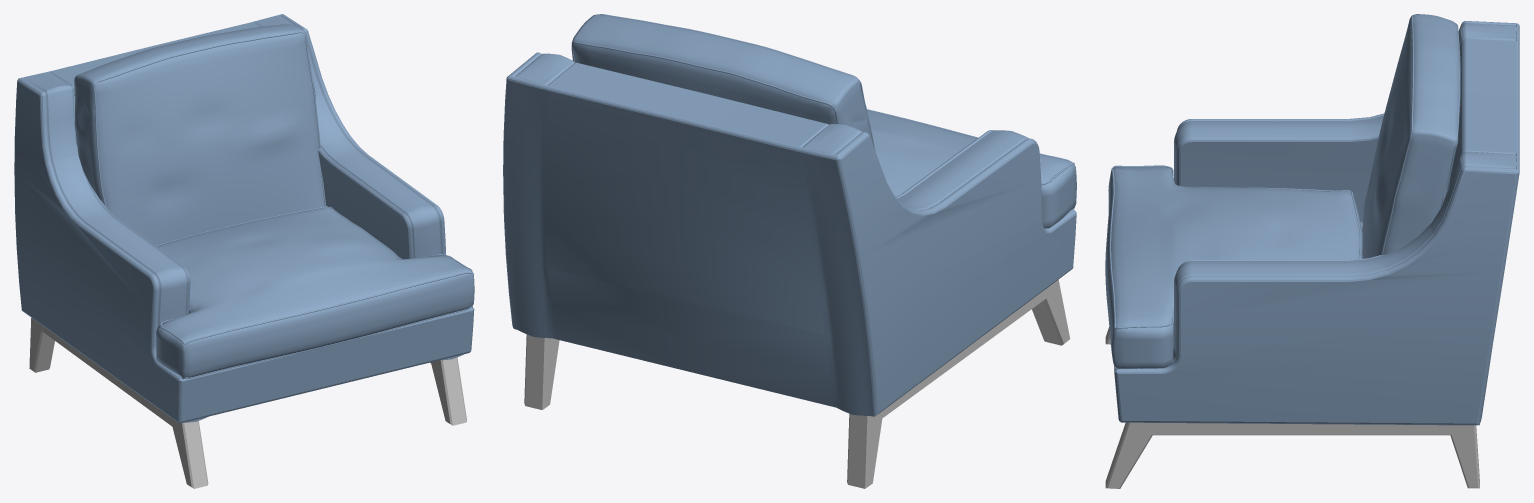
Rendered from chair.glb.
3 renders of one model, left to right at view 1: azimuth 30°, elevation 25°; view 2: azimuth 150°, elevation 25°; view 3: azimuth 270°, elevation 25°, orthographic. The views are drawn at different scales.
Visible parts, largest first — view 1: buffer-0-mesh-0_1_1, buffer-0-mesh-0_0; view 2: buffer-0-mesh-0_1_1, buffer-0-mesh-0_0; view 3: buffer-0-mesh-0_1_1, buffer-0-mesh-0_0.
Boxes of the visible parts, x1,y1,x2,y2 form: buffer-0-mesh-0_1_1: (14, 14, 474, 423); buffer-0-mesh-0_0: (29, 318, 466, 488); buffer-0-mesh-0_1_1: (503, 14, 1076, 416); buffer-0-mesh-0_0: (524, 279, 1070, 488); buffer-0-mesh-0_1_1: (1105, 14, 1519, 425); buffer-0-mesh-0_0: (1105, 327, 1479, 488).
Bounding box in the file's own units: 0.6542 × 0.6459 × 0.6894.
